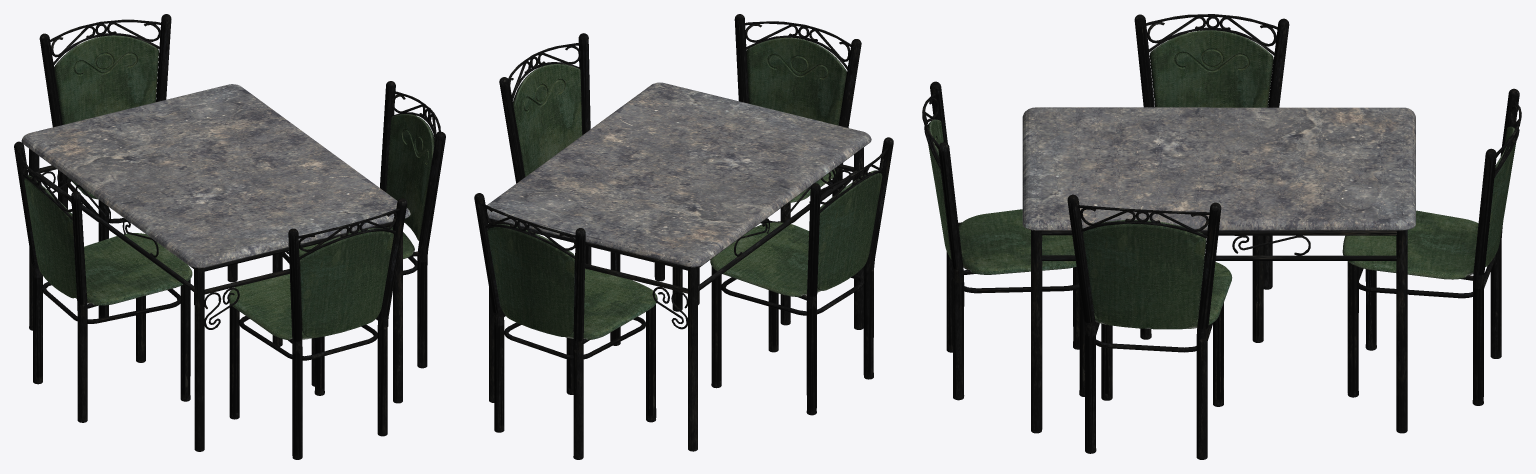
File: Tavoloe Sedie Metal XX-A1.obj
3 views of the same model, side by side, from view 1: azimuth 30°, elevation 25°; view 2: azimuth 150°, elevation 25°; view 3: azimuth 270°, elevation 25° (orthographic). The views are drawn at different scales.
Visible parts, largest first — view 1: Table_XX1, Sedia_XX004, Sedia_XX003, Sedia_XX002, Sedia_XX1; view 2: Table_XX1, Sedia_XX002, Sedia_XX003, Sedia_XX004, Sedia_XX1; view 3: Table_XX1, Sedia_XX1, Sedia_XX002, Sedia_XX003, Sedia_XX004.
Boxes of the visible parts, x1,y1,x2,y2 form: Table_XX1: (21,84,410,451); Sedia_XX004: (228,198,407,459); Sedia_XX003: (14,141,192,422); Sedia_XX002: (39,14,194,318); Sedia_XX1: (272,81,445,386); Table_XX1: (487,82,871,451); Sedia_XX002: (474,193,657,459); Sedia_XX003: (710,137,893,415); Sedia_XX004: (698,14,861,325); Sedia_XX1: (499,33,682,345); Table_XX1: (1022,107,1415,433); Sedia_XX1: (1067,194,1232,459); Sedia_XX002: (1342,88,1521,405); Sedia_XX003: (1134,14,1289,342); Sedia_XX004: (922,81,1084,400).
Size of the model in its own units: 6.53 by 4.15 by 8.4.
